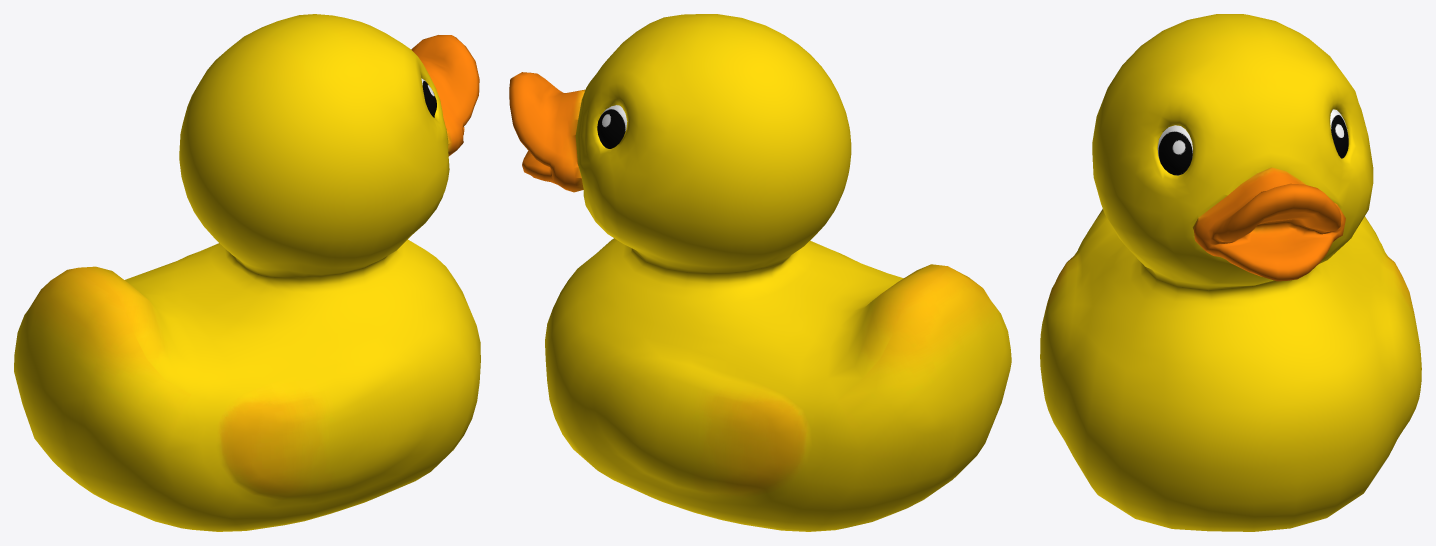
File: monster.glb
3 renders of one model, left to right at view 1: azimuth 30°, elevation 25°; view 2: azimuth 150°, elevation 25°; view 3: azimuth 270°, elevation 25°, orthographic. The views are drawn at different scales.
Visible parts, largest first — view 1: LOD3spShape; view 2: LOD3spShape; view 3: LOD3spShape.
Boxes of the visible parts, x1,y1,x2,y2 form: LOD3spShape: [14, 14, 480, 531]; LOD3spShape: [509, 14, 1011, 531]; LOD3spShape: [1040, 14, 1421, 531].
Size of the model in its own units: 1.65 by 1.54 by 1.15.
1 material, 1 textured.
